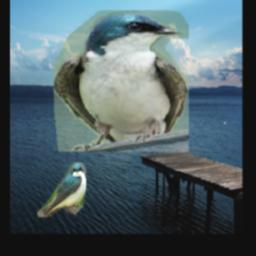Swallow: (54, 11, 190, 152), (37, 164, 86, 218)
